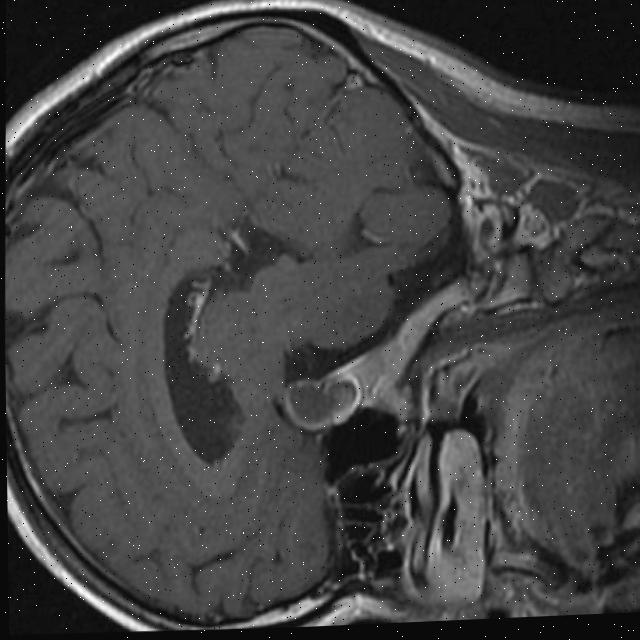Pituitary: (282, 369, 364, 432)
